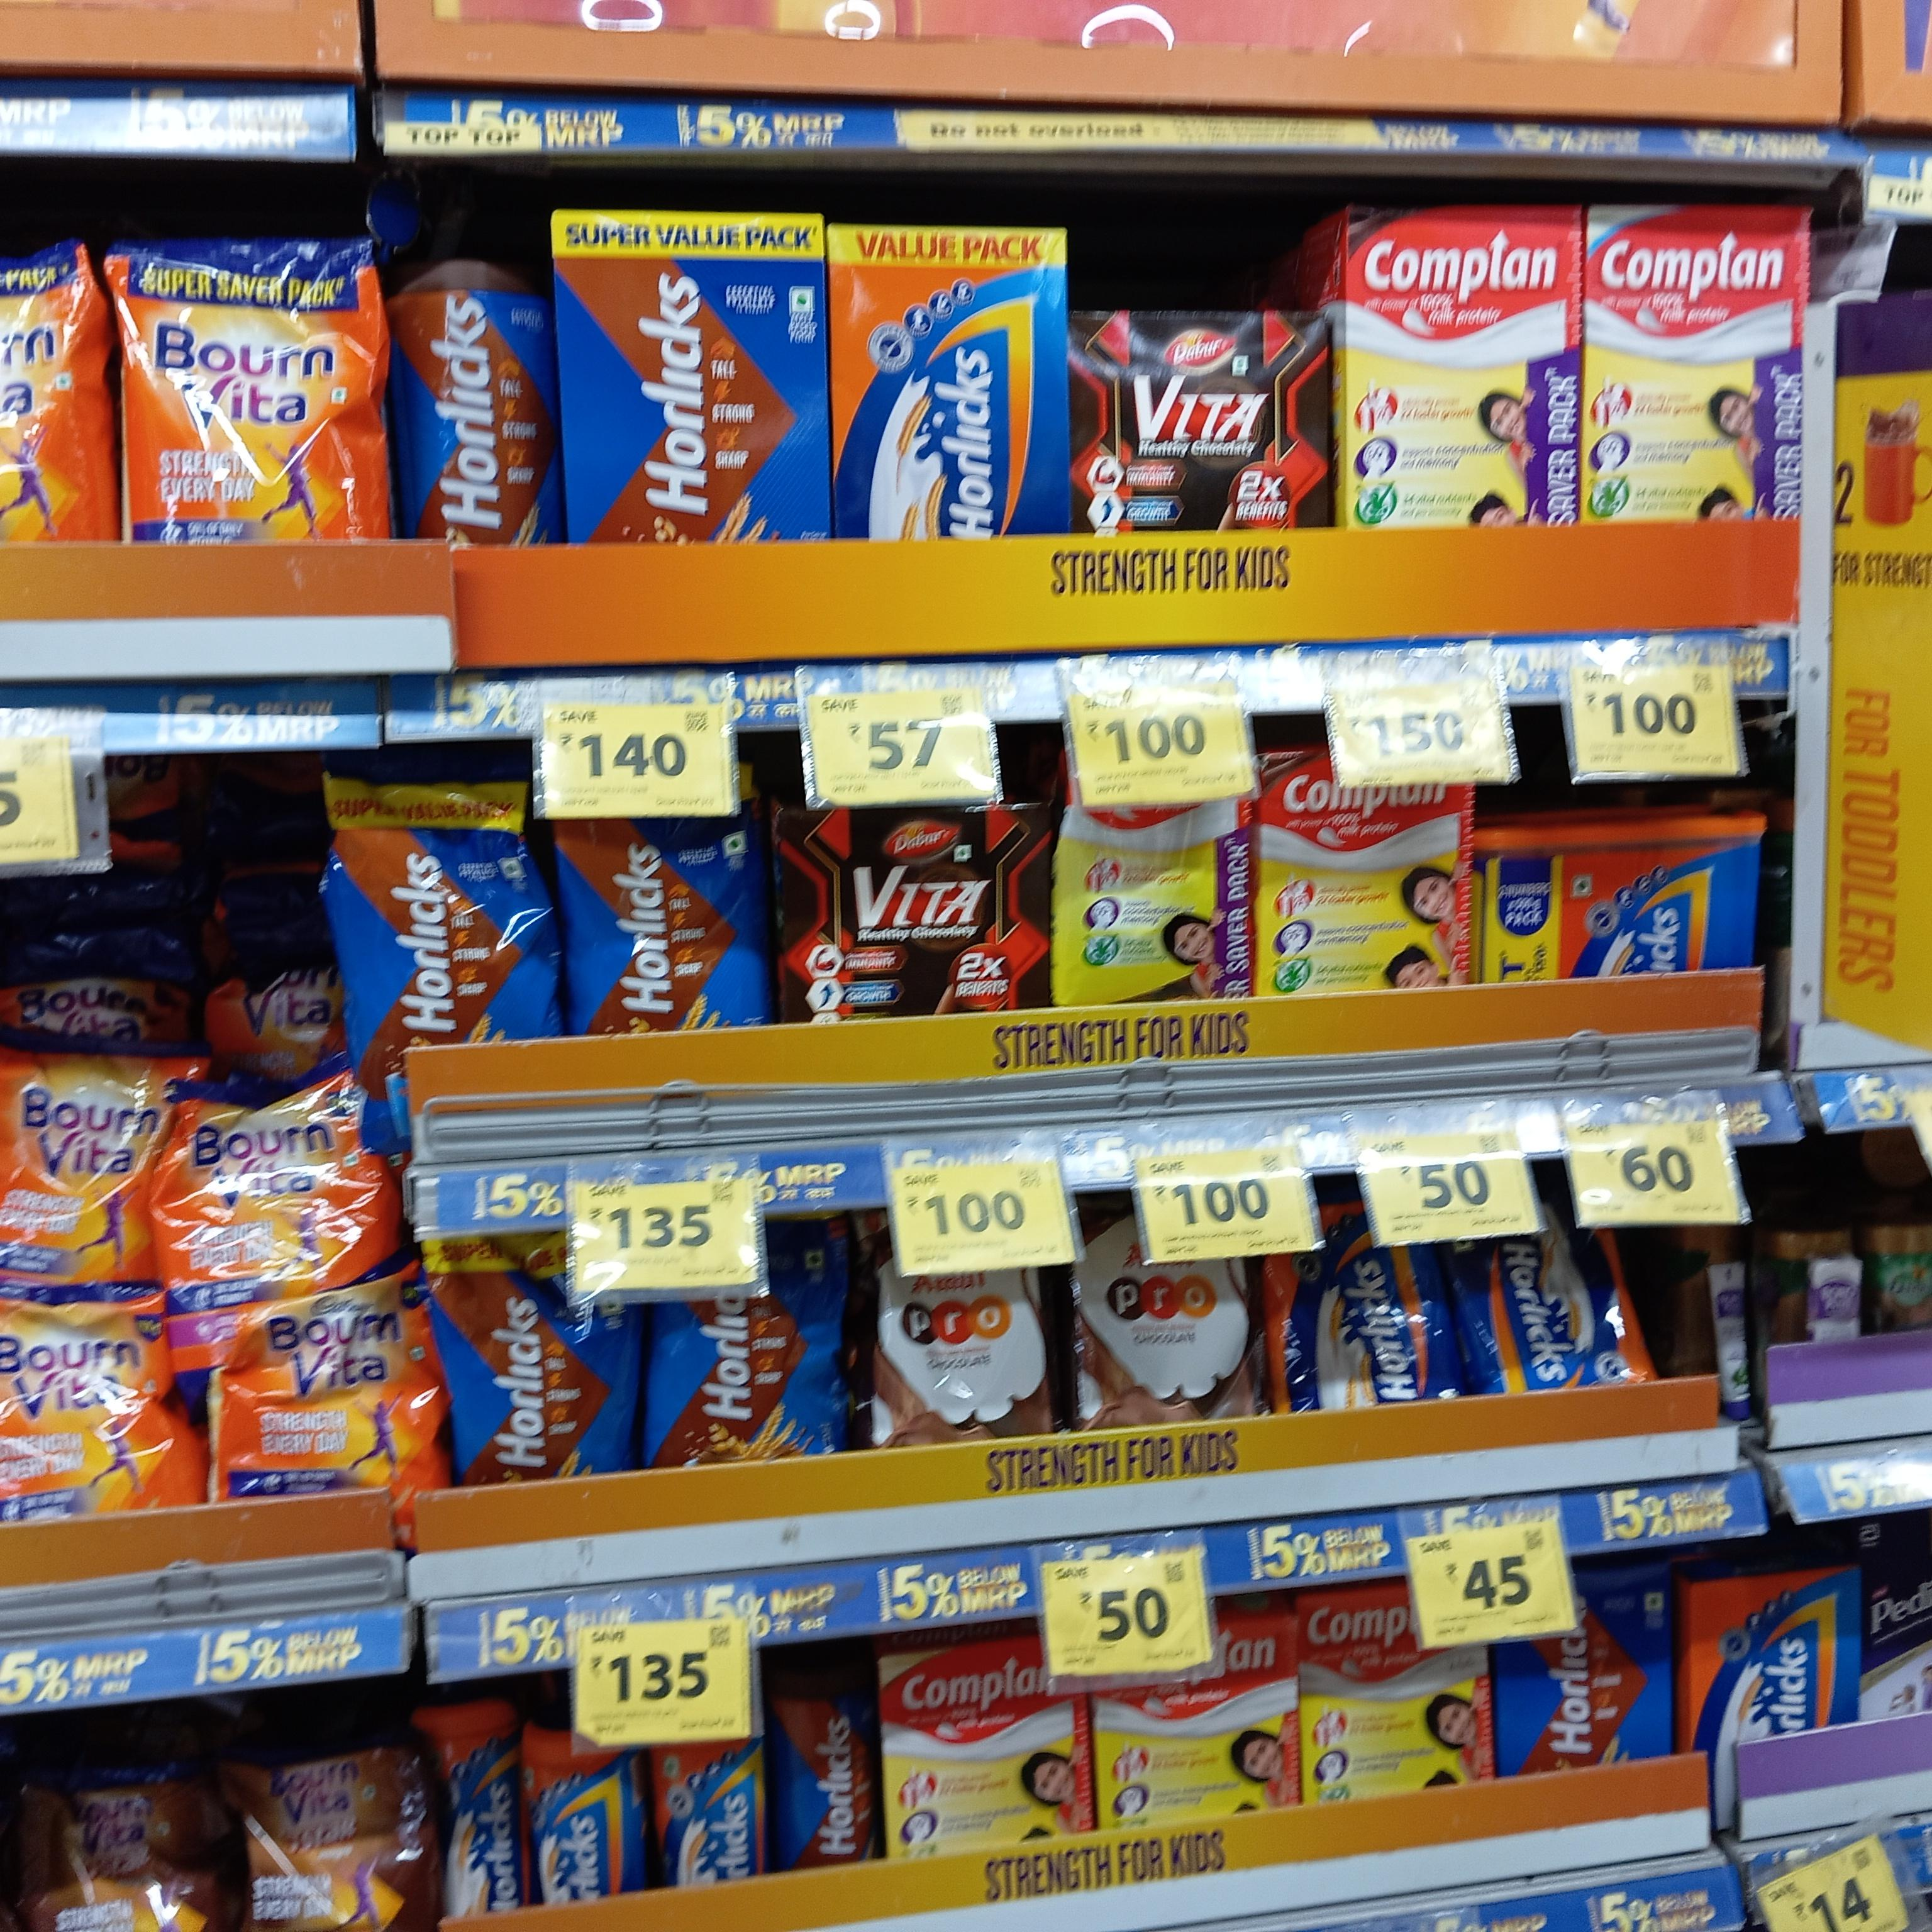BOURN_VITA_1_KG_POUCH: (127, 239, 370, 540)
BOURN_VITA_750_G_POUCH: (218, 1293, 432, 1500), (173, 1085, 391, 1286), (0, 1281, 168, 1513)
COMPLAN_CHOCOLATE_1_KG_PACK: (1348, 202, 1578, 525)
COMPLAN_CHOCOLATE_500_GMS_PACK: (1265, 754, 1474, 994)
COMPLAN_KESAR_BADAM_200_GMS_PACK: (881, 1647, 1076, 1858)
COMPLAN_RC_POUCH_700_GMS_12: (1054, 796, 1246, 1007)
HORLICK_CHOCOLATE_1_KG_JAR: (396, 249, 550, 554)
HORLICK_CHOCOLATE_1_KG_PACK: (566, 216, 826, 545)
HORLICK_CHOCOLATE_200_G_JAR: (766, 1663, 874, 1867)
HORLICK_CHOCOLATE_750_G_POUCH: (345, 782, 548, 1042), (439, 1230, 605, 1481), (566, 814, 755, 1033)
HORLICK_CLASSIC_MALT_200_G_JAR: (531, 1723, 637, 1907), (432, 1706, 520, 1920)
HORLICK_CLASSIC_MALT_500_G_PACK: (1693, 1576, 1854, 1744)
HORLICK_CLASSIC_MALT_750_G_POUCH: (1284, 1196, 1447, 1408), (1486, 1201, 1637, 1384)
HORLICK_MALT_1_KG_CONTAINER: (1484, 817, 1760, 985)
